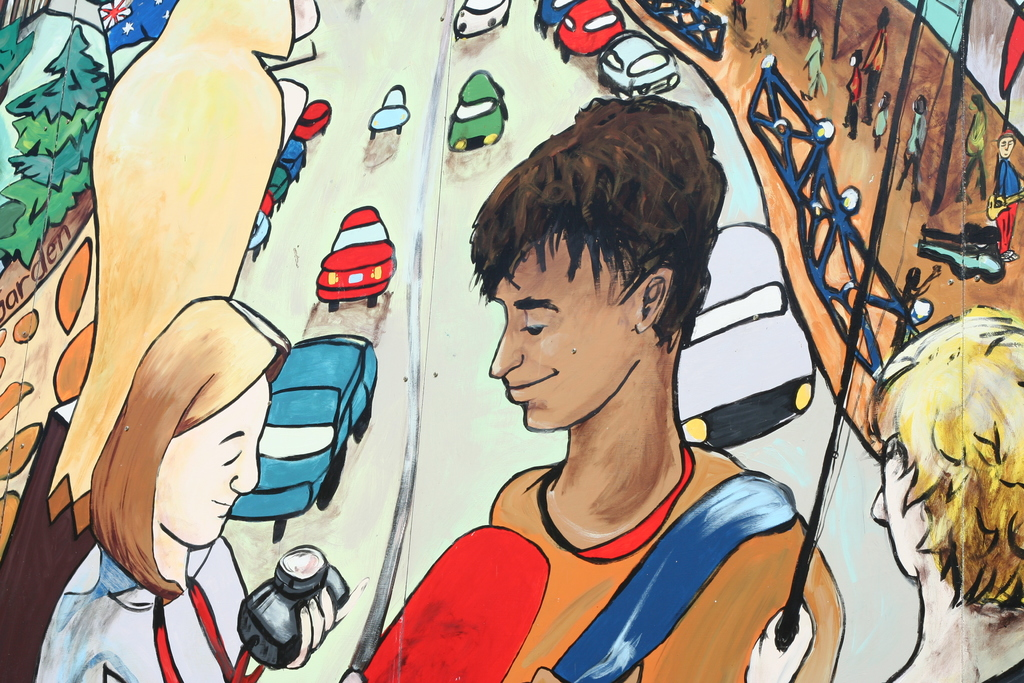Person: (469, 77, 846, 682), (27, 297, 373, 683), (867, 304, 1024, 683), (984, 127, 1023, 265), (949, 89, 990, 201), (894, 91, 927, 204), (857, 4, 886, 123), (802, 22, 827, 100), (847, 48, 860, 135), (872, 89, 890, 149)
